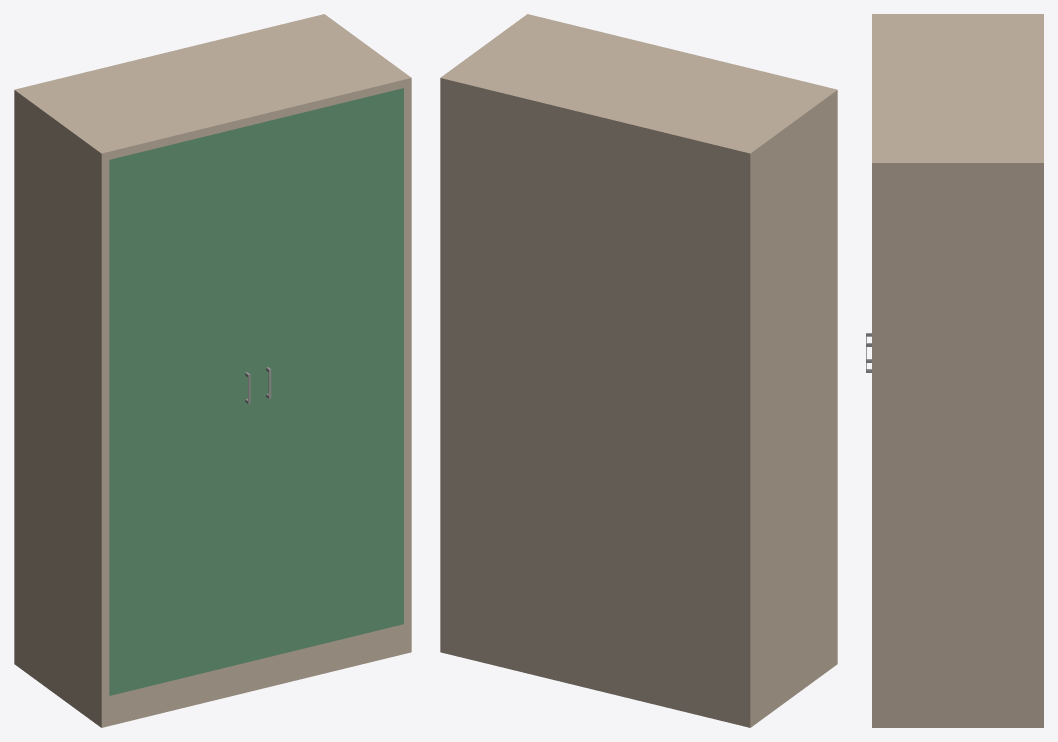
The model's file is GreenCabinet-Wide.fbx.
3 renders of one model, left to right at view 1: azimuth 30°, elevation 25°; view 2: azimuth 150°, elevation 25°; view 3: azimuth 270°, elevation 25°, orthographic.
Parts seen in each view (by area): view 1: GreenDoorCabinet, GreenCabinetDoorL, GreenCabinetDoorR; view 2: GreenDoorCabinet; view 3: GreenDoorCabinet.
Boxes of the visible parts, x1,y1,x2,y2 form: GreenDoorCabinet: [14, 14, 411, 727]; GreenCabinetDoorL: [109, 124, 256, 695]; GreenCabinetDoorR: [256, 88, 403, 659]; GreenDoorCabinet: [440, 14, 837, 727]; GreenDoorCabinet: [872, 14, 1043, 727].
Size of the model in its own units: 1.19 by 2.11 by 0.6.
